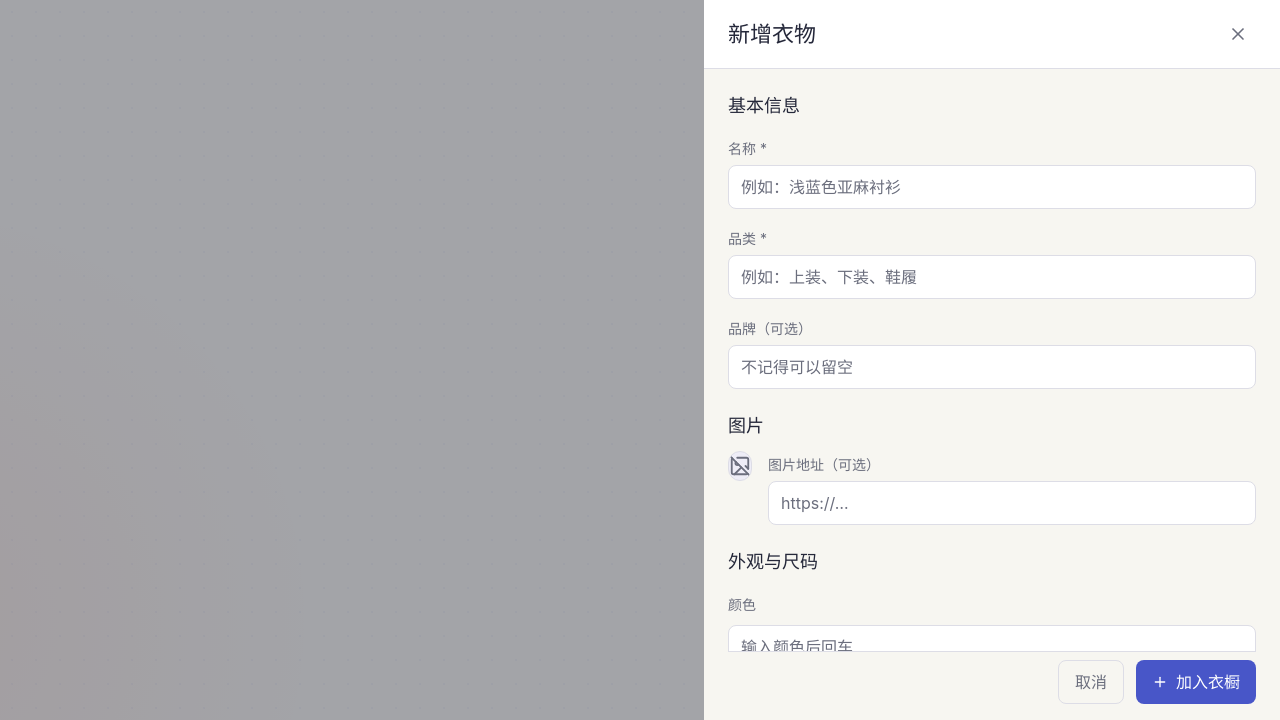
Test: WardrobeFormDrawer › 空表单提交时显示名称与品类必填错误
Click the button "加入衣橱". click: [1196, 682]
box: 1136,660 -> 1256,704
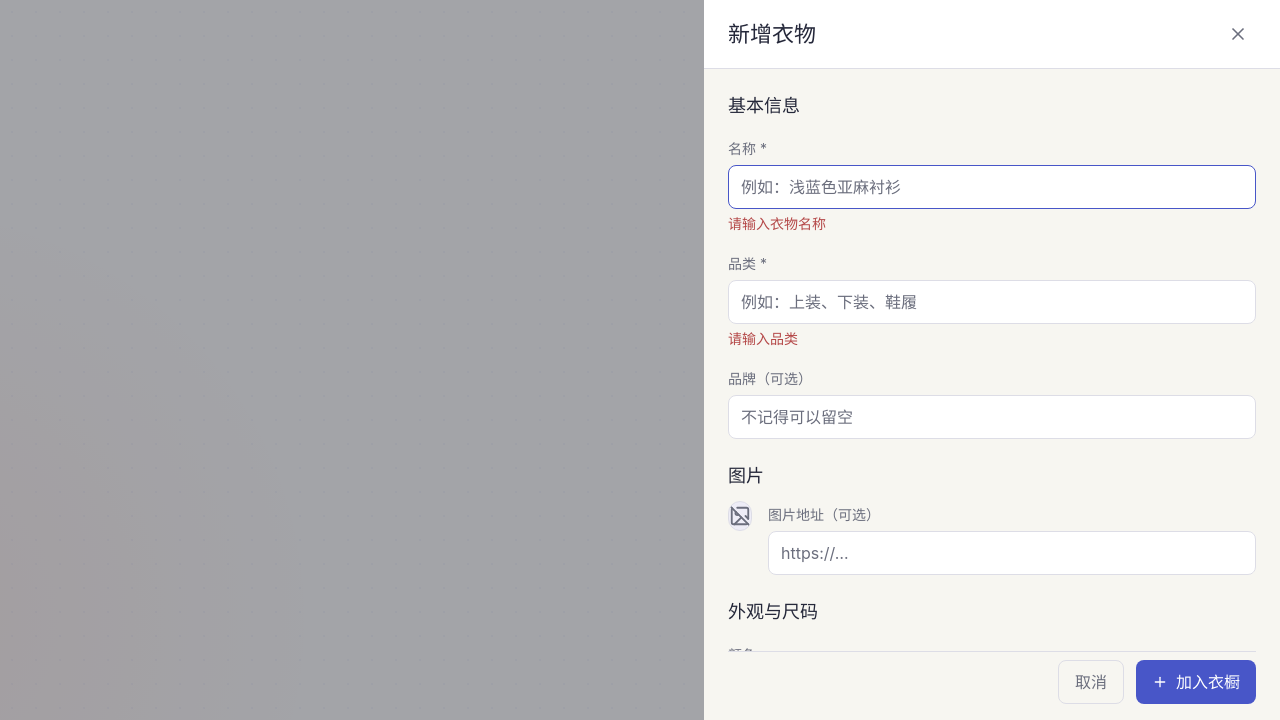
Check: the text "请输入衣物名称" is shown, box 728,215 -> 826,232
Check: the text "请输入品类" is shown, box 728,330 -> 798,347
